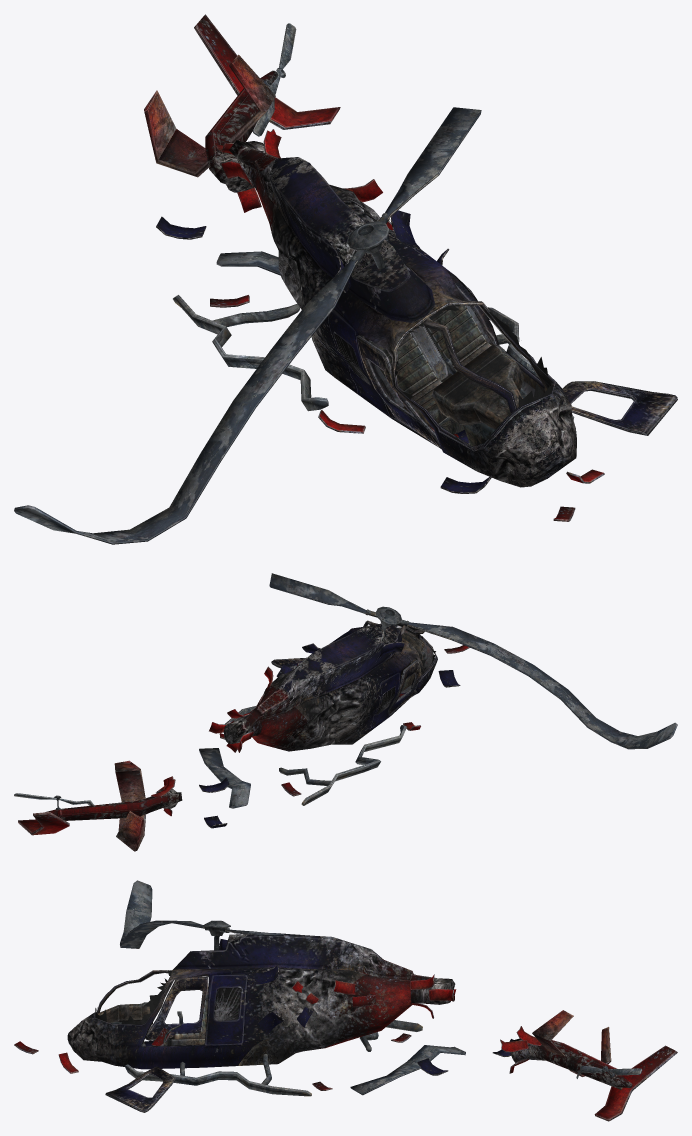
File: crashedheli.fbx
The picture shows the model from 3 angles, top to bottom: view 1: azimuth 30°, elevation 25°; view 2: azimuth 150°, elevation 25°; view 3: azimuth 270°, elevation 25°; orthographic projection. The views are drawn at different scales.
Parts seen in each view (by area): view 1: HelicopterCrashed; view 2: HelicopterCrashed; view 3: HelicopterCrashed.
Boxes of the visible parts, box(x1,y1,x2,y2) form: HelicopterCrashed: box(14, 14, 677, 544); HelicopterCrashed: box(14, 573, 677, 851); HelicopterCrashed: box(14, 880, 677, 1121).
Bounding box in the file's own units: 22.29 × 7.56 × 29.68.
